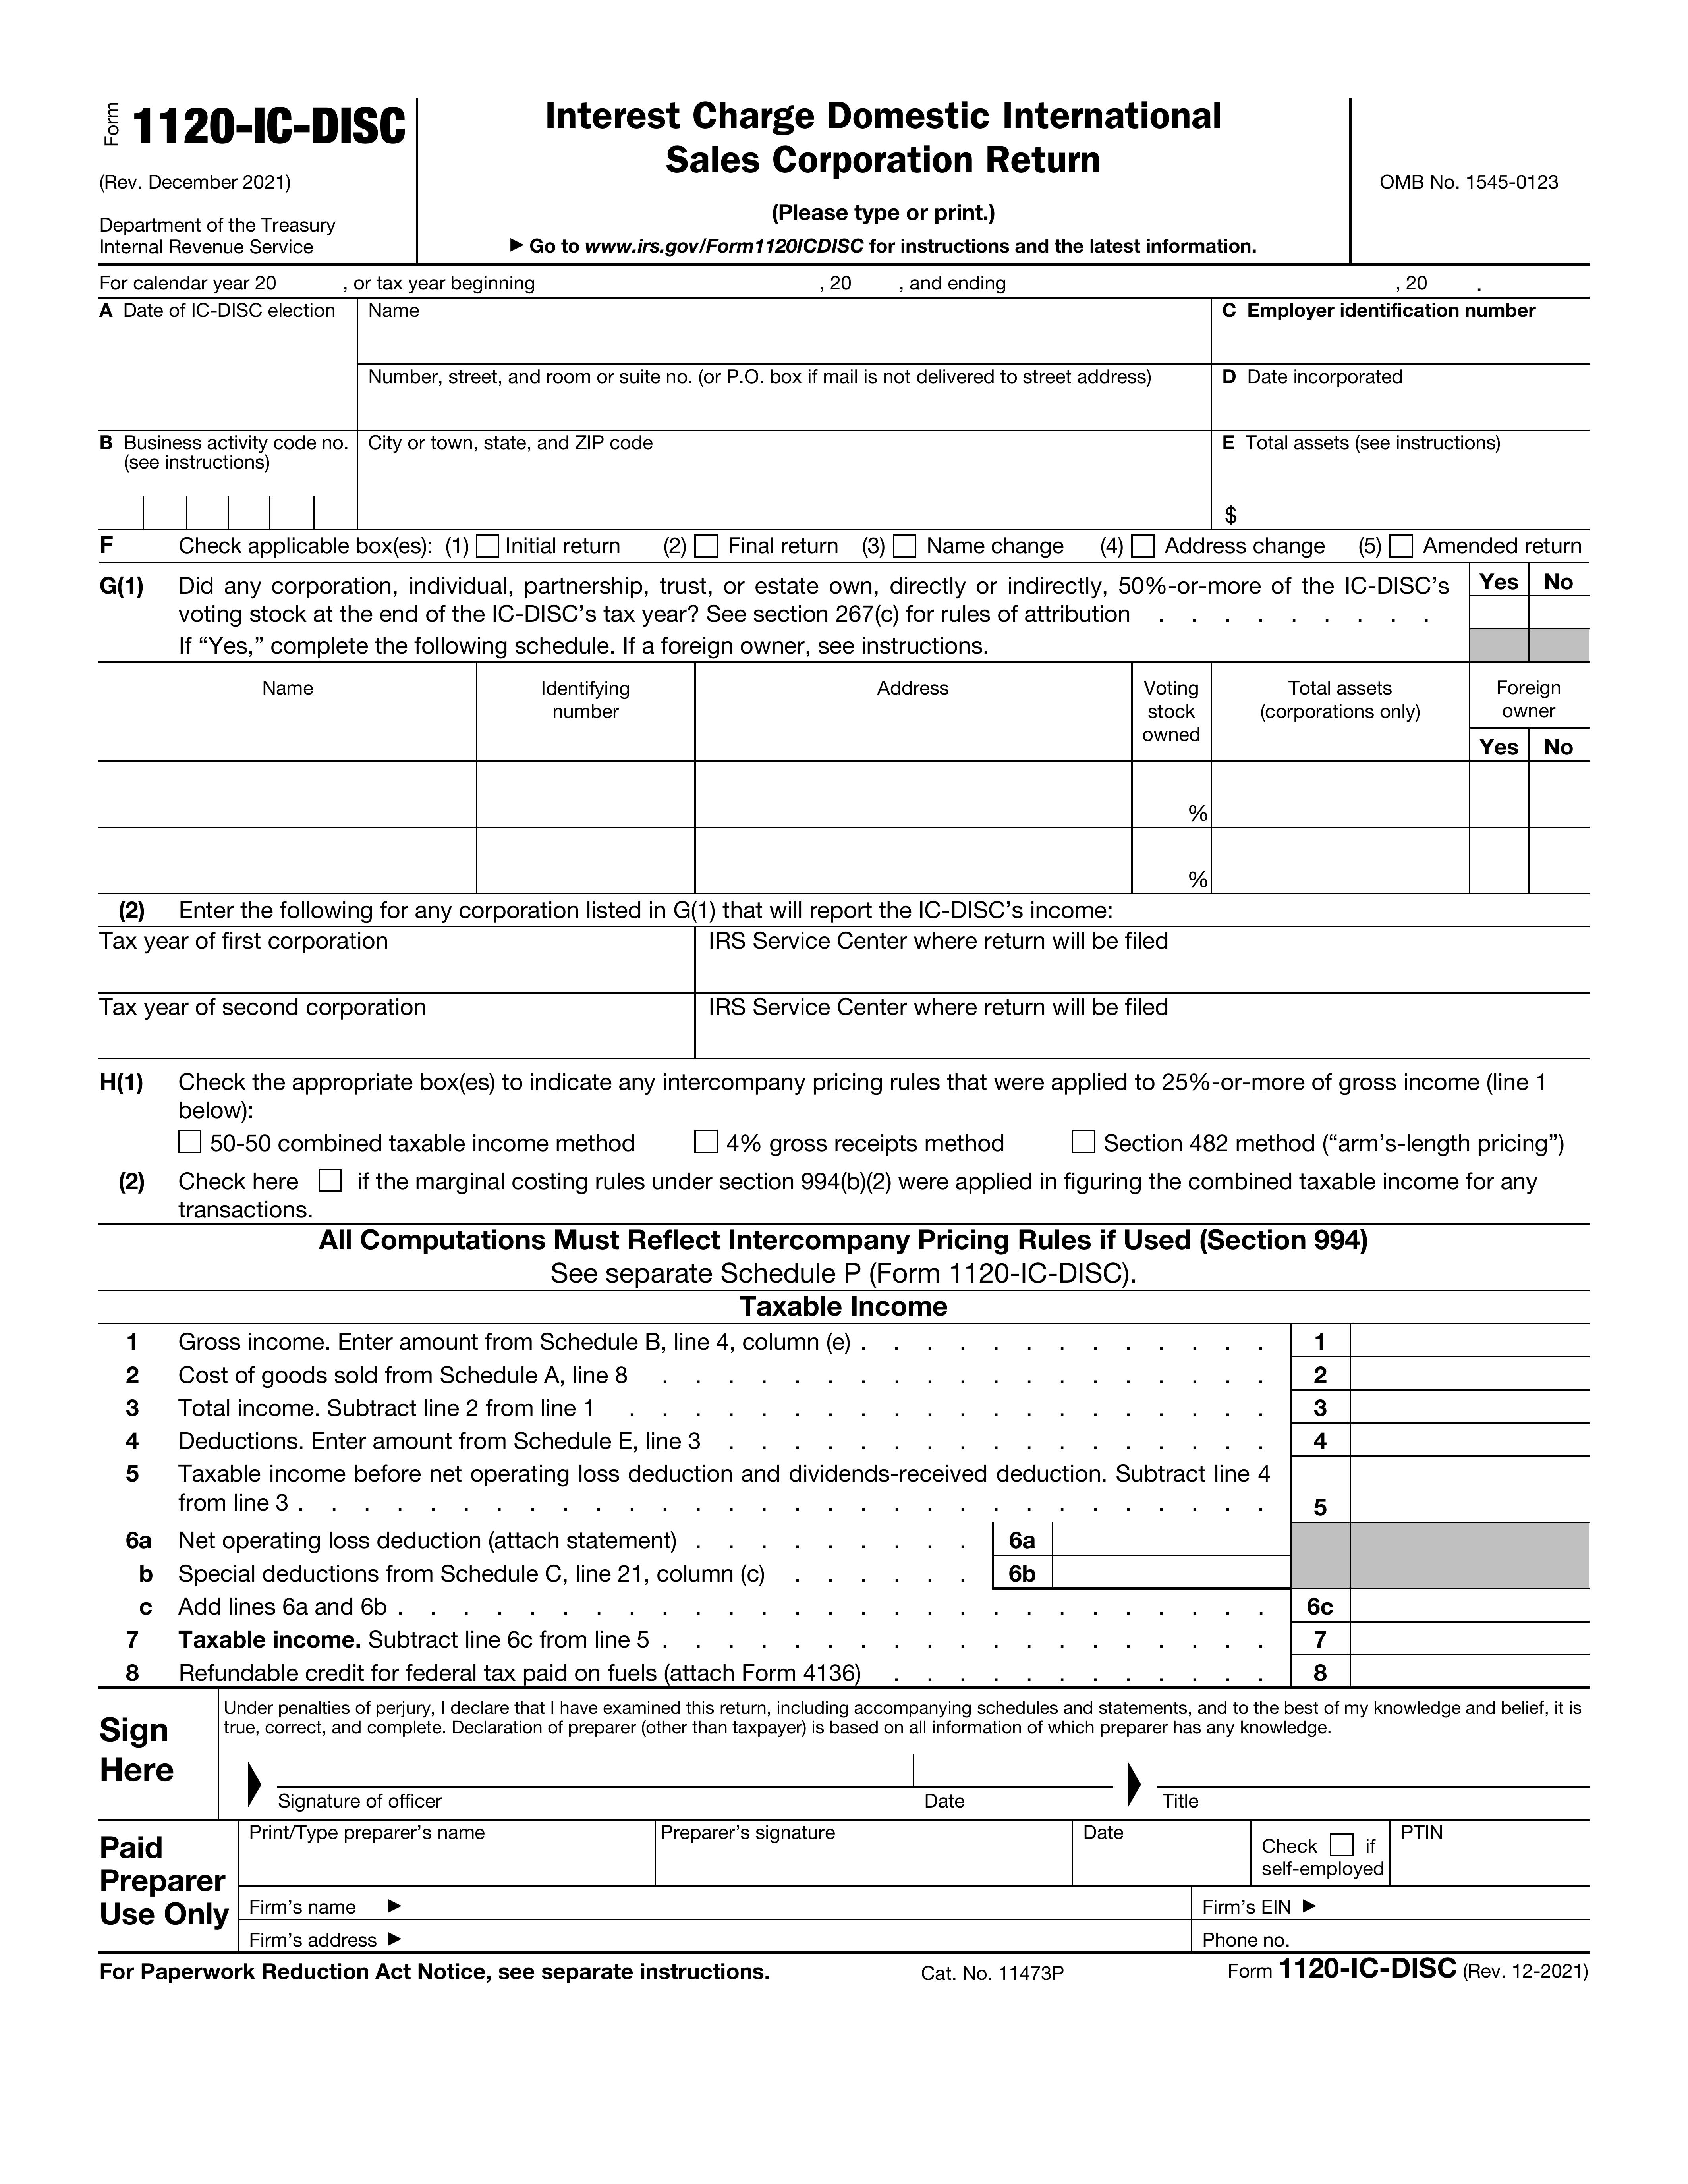form: (81, 75, 1602, 562), (73, 895, 1632, 1217), (75, 1679, 1622, 1957)
table: (71, 1219, 1627, 1676), (78, 560, 1610, 899)
